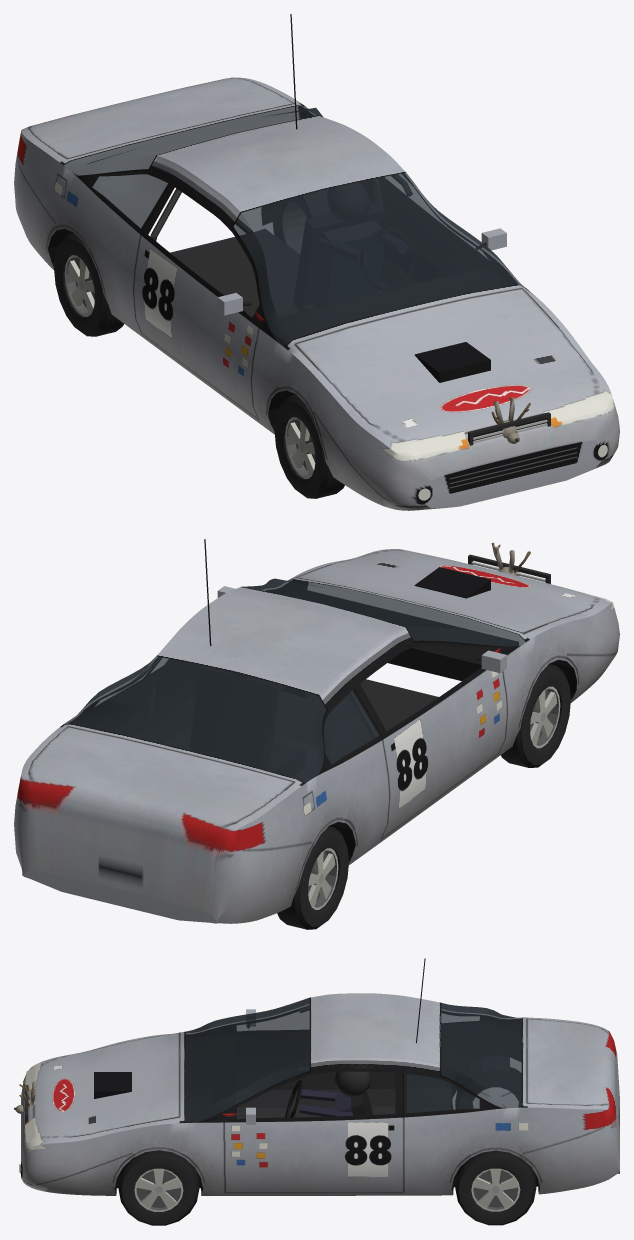
3 views of the same model, one above another, from view 1: azimuth 30°, elevation 25°; view 2: azimuth 150°, elevation 25°; view 3: azimuth 270°, elevation 25° (orthographic). The views are drawn at different scales.
Parts seen in each view (by area): view 1: body, wheel_fr, wheel_rr, wheel_rl; view 2: body, wheel_rr, wheel_fr; view 3: body, wheel_fl, wheel_rl, wheel_rr.
Boxes of the visible parts, x1,y1,x2,y2 form: body: (14, 14, 619, 510); wheel_fr: (274, 394, 344, 498); wheel_rr: (54, 233, 123, 336); wheel_rl: (272, 196, 311, 253); body: (14, 539, 619, 923); wheel_rr: (277, 826, 348, 929); wheel_fr: (501, 664, 570, 767); body: (14, 958, 619, 1195); wheel_fl: (118, 1150, 199, 1225); wheel_rl: (455, 1150, 536, 1225); wheel_rr: (455, 1067, 521, 1108).
Size of the model in its own units: 1.97 by 2.08 by 4.8.
Materials: 2 (1 with a texture image).
